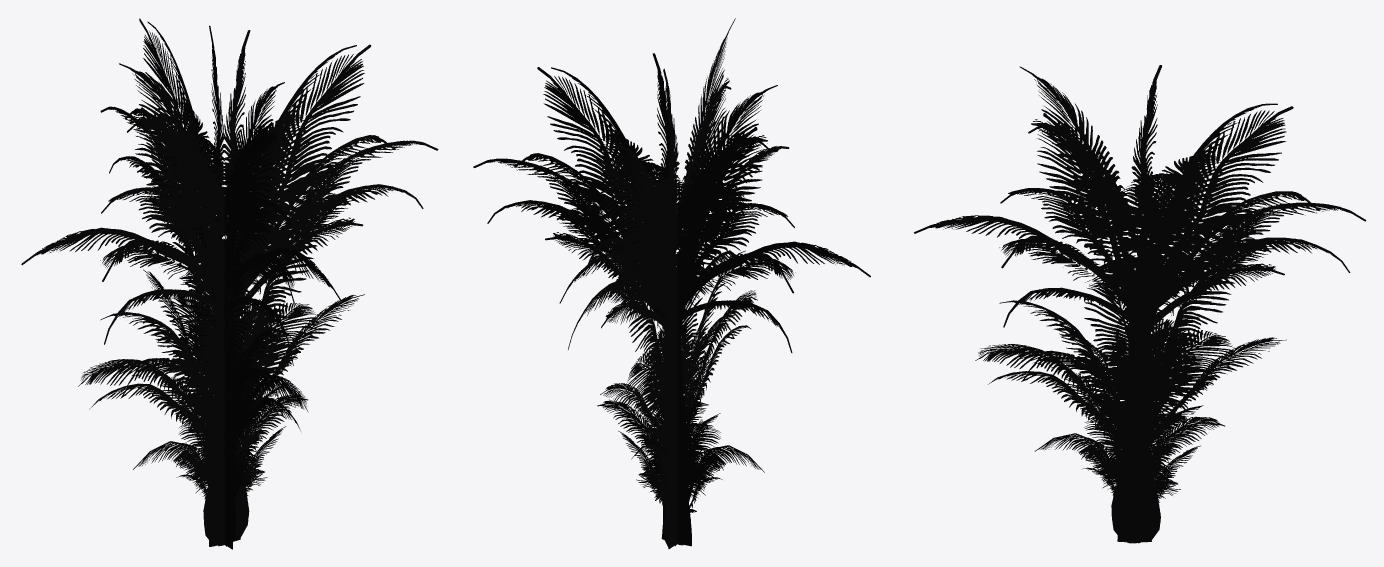
The model's file is MSH_MajesticPalm_Imposters_BCDE.fbx.
The picture shows the model from 3 angles, left to right: view 1: azimuth 30°, elevation 25°; view 2: azimuth 150°, elevation 25°; view 3: azimuth 270°, elevation 25°; orthographic projection. The views are drawn at different scales.
Parts seen in each view (by area): view 1: MajesticPalm_Imposters_E_GEO, MajesticPalm_Imposters_D_GEO, MajesticPalm_Imposters_C_GEO, MajesticPalm_Imposters_B_GEO; view 2: MajesticPalm_Imposters_E_GEO, MajesticPalm_Imposters_D_GEO, MajesticPalm_Imposters_B_GEO, MajesticPalm_Imposters_C_GEO; view 3: MajesticPalm_Imposters_E_GEO, MajesticPalm_Imposters_D_GEO, MajesticPalm_Imposters_B_GEO, MajesticPalm_Imposters_C_GEO.
Part boxes in pixels (bbox=[...]): MajesticPalm_Imposters_E_GEO: bbox=[21, 18, 438, 549]; MajesticPalm_Imposters_D_GEO: bbox=[78, 190, 364, 547]; MajesticPalm_Imposters_C_GEO: bbox=[175, 378, 304, 546]; MajesticPalm_Imposters_B_GEO: bbox=[133, 394, 308, 546]; MajesticPalm_Imposters_E_GEO: bbox=[473, 18, 870, 549]; MajesticPalm_Imposters_D_GEO: bbox=[600, 250, 757, 548]; MajesticPalm_Imposters_B_GEO: bbox=[597, 400, 764, 545]; MajesticPalm_Imposters_C_GEO: bbox=[598, 388, 723, 545]; MajesticPalm_Imposters_E_GEO: bbox=[914, 65, 1366, 542]; MajesticPalm_Imposters_D_GEO: bbox=[975, 249, 1286, 541]; MajesticPalm_Imposters_B_GEO: bbox=[1034, 398, 1224, 543]; MajesticPalm_Imposters_C_GEO: bbox=[1080, 387, 1224, 543].
Bounding box in the file's own units: 665 × 760 × 665.
